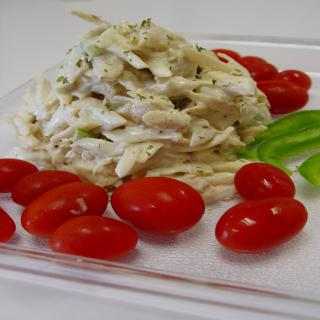tomato: (113, 172, 212, 235), (216, 197, 308, 255), (21, 182, 108, 238), (47, 216, 141, 262), (11, 171, 81, 206), (234, 162, 295, 198), (251, 80, 311, 115), (0, 158, 39, 190), (277, 68, 313, 88), (242, 62, 280, 80), (0, 207, 15, 241), (209, 48, 241, 62), (240, 56, 266, 66)
